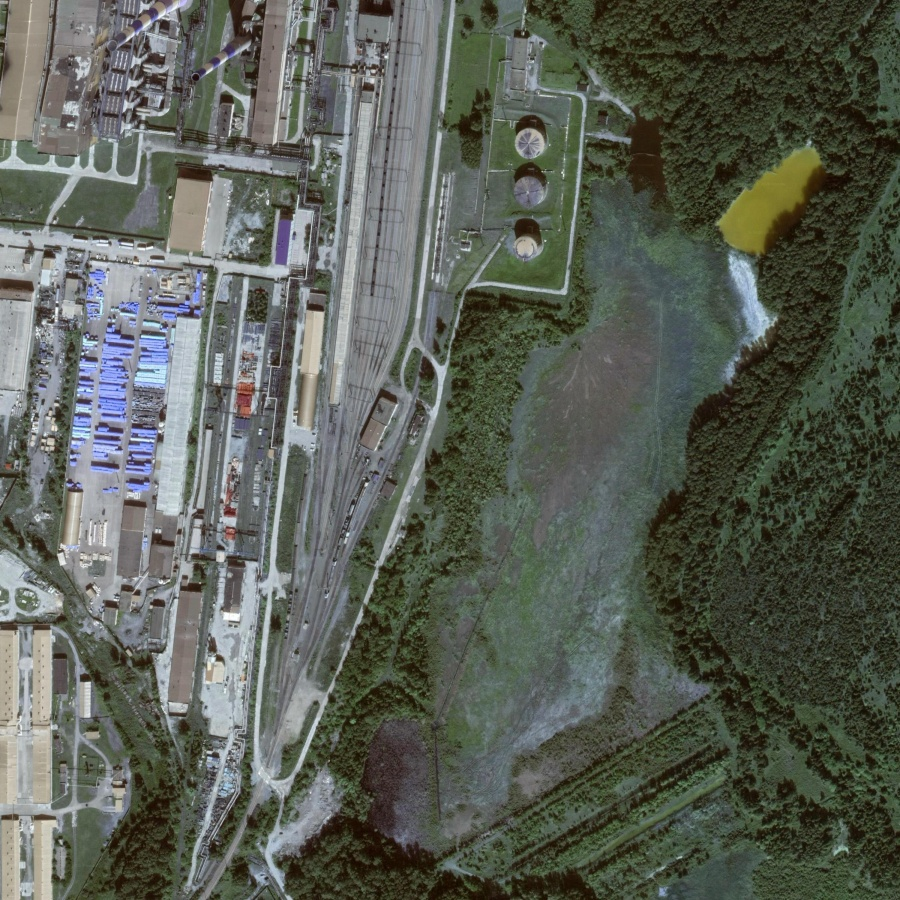PowerPlant: (436, 101, 584, 276)
